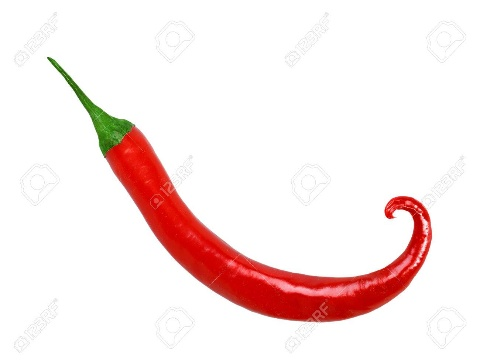Chilli: (41, 49, 438, 326)
